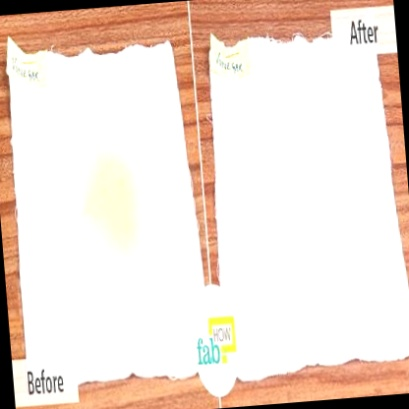coffee: (81, 146, 144, 247)
